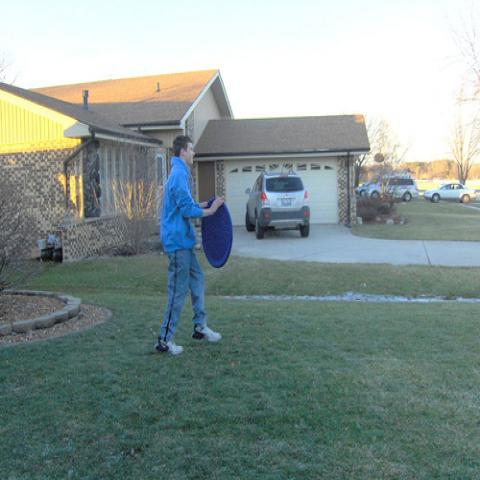car: (247, 170, 312, 238), (364, 175, 419, 203), (423, 181, 477, 204), (355, 179, 382, 198)
